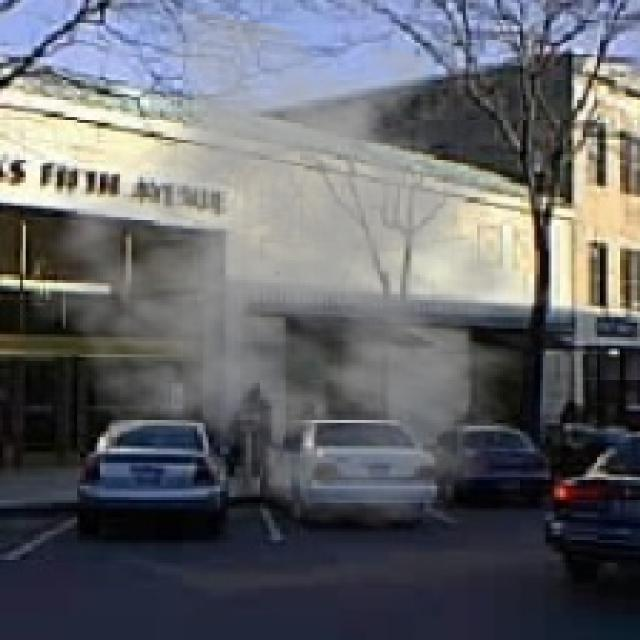smoke: (29, 6, 577, 531)
